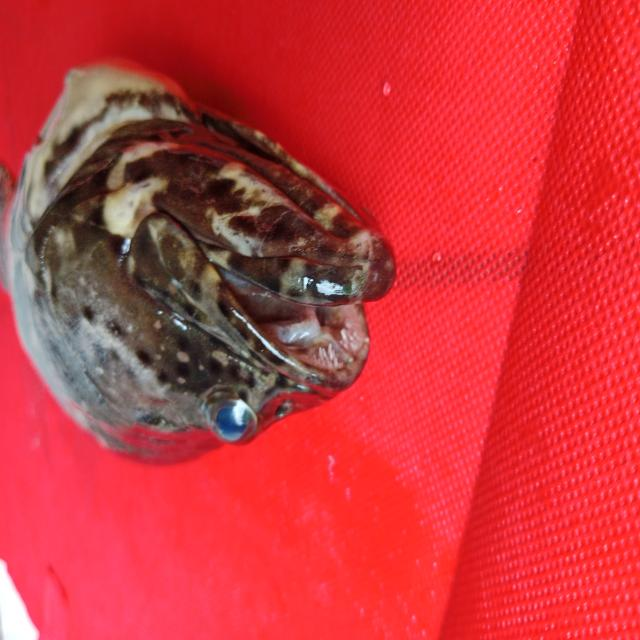ikan: (4, 34, 416, 498)
